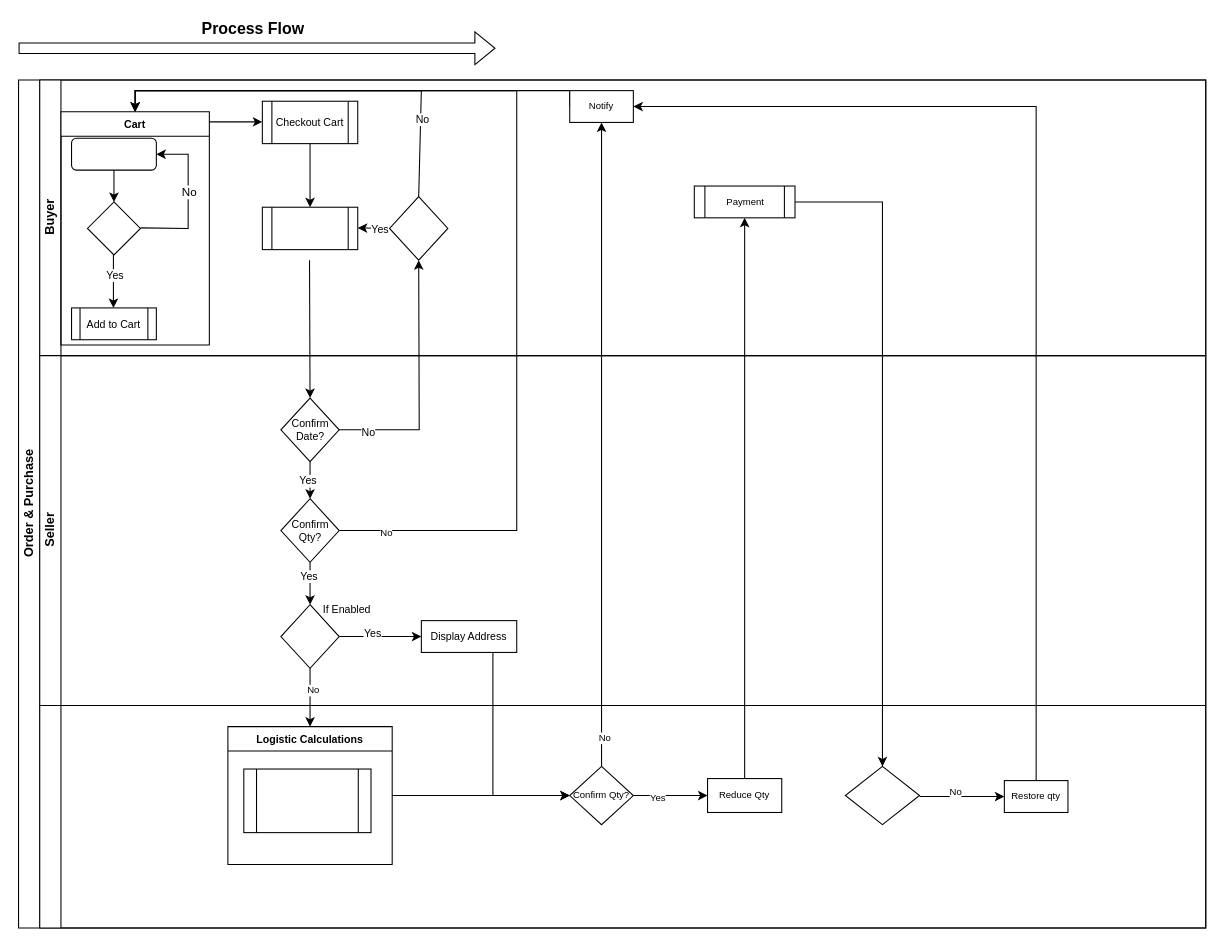
The diagram is 1224 pixels wide and 947 high, and some of its shapes have lost their labels. Each missing label, with the box of its shape:
Delivery Date & Delivery Address: (261, 206, 358, 250)
Qty?: (86, 201, 140, 255)
Rate & Distance: (243, 768, 371, 833)
Revise Date?: (388, 196, 448, 260)
Select Product: (70, 137, 156, 170)
Self Deliver?: (280, 604, 339, 668)
Success?: (844, 765, 920, 825)
System: (39, 704, 1206, 928)
